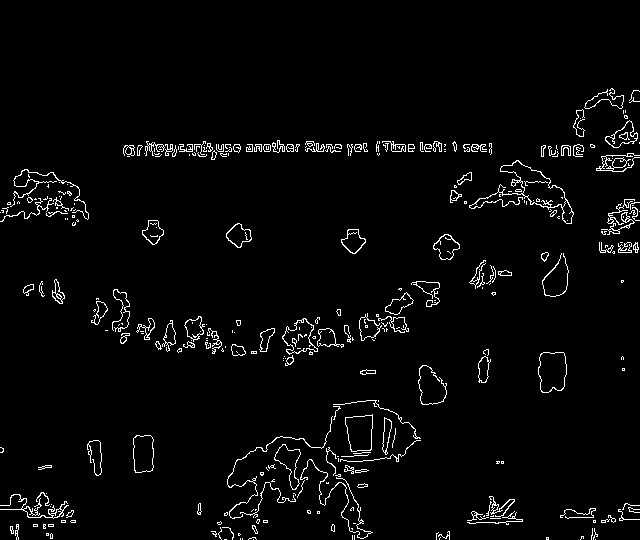down: (332, 219, 372, 266), (134, 214, 173, 256)
left: (214, 218, 264, 253)
up: (428, 227, 467, 269)
